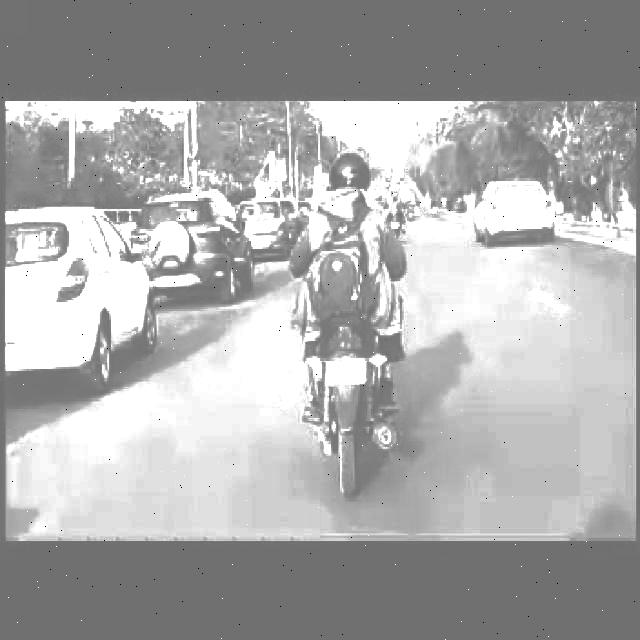Car: (5, 216, 163, 387), (136, 191, 248, 302), (473, 169, 569, 265), (242, 180, 310, 260)
